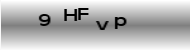9: (37, 13, 51, 27)
F: (77, 7, 89, 21)
H: (61, 7, 78, 21)
p: (114, 15, 126, 30)
v: (95, 19, 109, 30)
